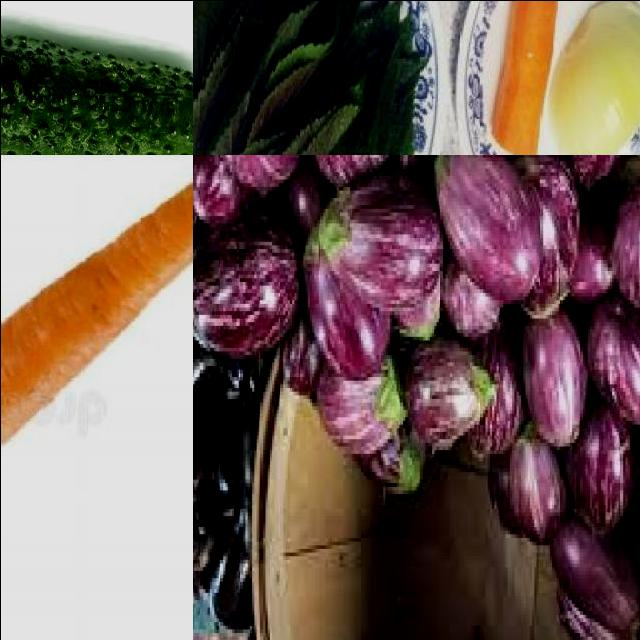carrot: (1, 155, 193, 533), (488, 1, 555, 155)
cucumber: (1, 28, 193, 155)
eggplant: (435, 155, 546, 308), (325, 183, 445, 319), (193, 224, 301, 359), (555, 524, 640, 640), (567, 413, 636, 545), (410, 340, 492, 450), (314, 363, 405, 461), (524, 318, 588, 446), (510, 432, 570, 549), (588, 304, 640, 432), (215, 155, 308, 198)
onion: (550, 1, 640, 155)
